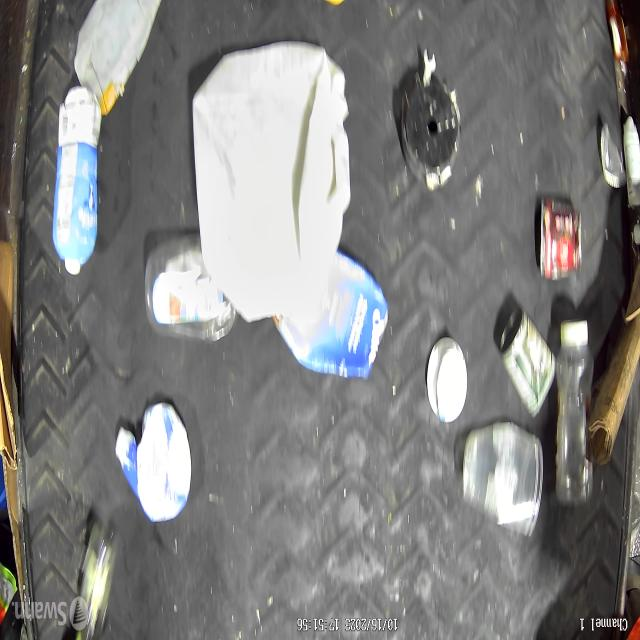can: (499, 306, 556, 419), (540, 198, 582, 280)
milk_jug: (191, 39, 351, 324), (74, 0, 162, 117)
non_white_jug: (271, 252, 388, 380), (52, 92, 102, 276)
plastic_bottle: (554, 319, 594, 506)
